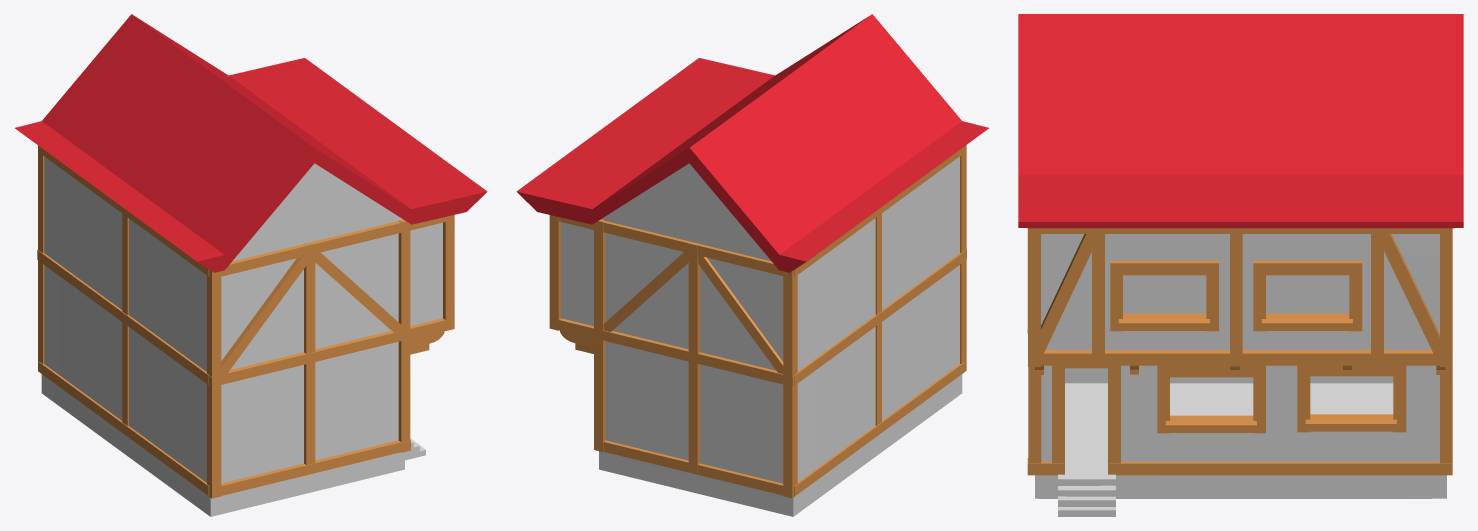
The model's file is BuildingTest3-merged.fbx.
The picture shows the model from 3 angles, left to right: view 1: azimuth 30°, elevation 25°; view 2: azimuth 150°, elevation 25°; view 3: azimuth 270°, elevation 25°; orthographic projection. The views are drawn at different scales.
Visible parts, largest first — view 1: House; view 2: House; view 3: House.
Boxes of the visible parts, x1,y1,x2,y2 form: House: (15,14,487,516); House: (516,14,988,516); House: (1018,14,1463,516).
Size of the model in its own units: 964 by 1112 by 1051.
